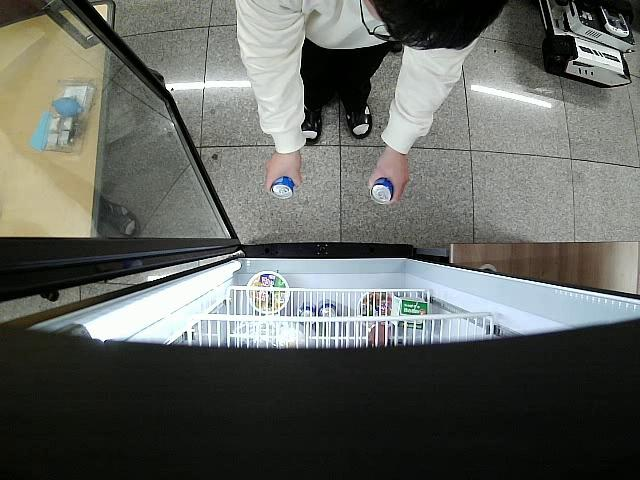00_hand: (365, 148, 411, 206), (263, 151, 302, 201)
15_letsbe: (369, 174, 394, 205), (270, 174, 295, 200)
